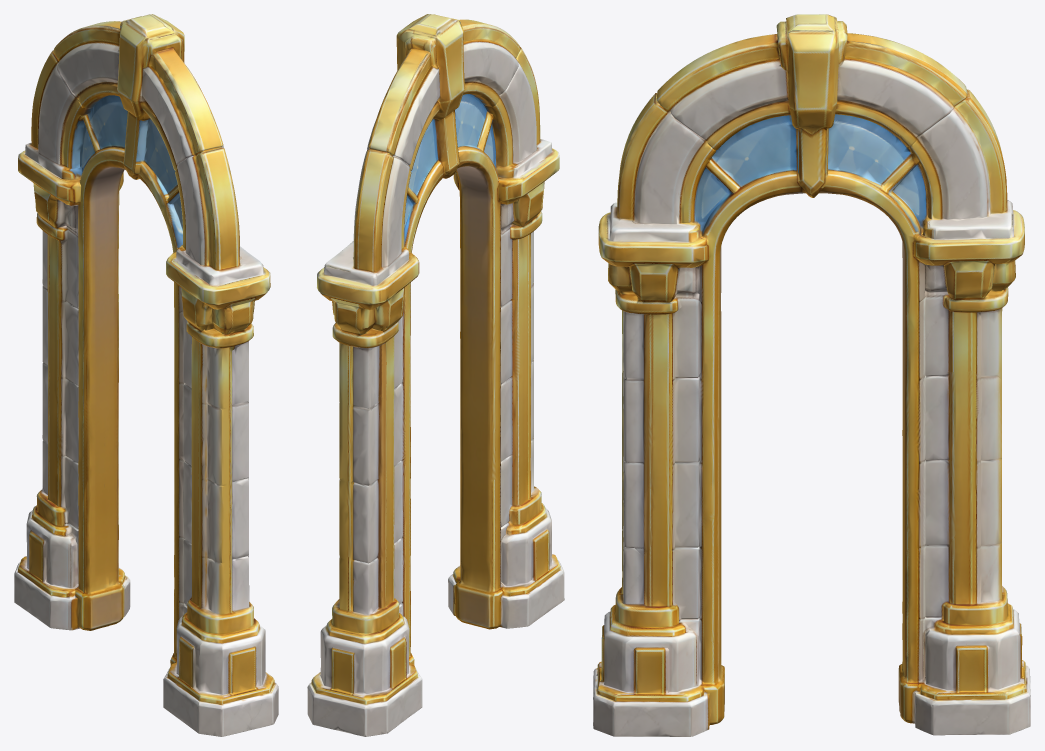
File: HaloPart_TowerDoorFrame_HD_src.glb
3 views of the same model, side by side, from view 1: azimuth 30°, elevation 25°; view 2: azimuth 150°, elevation 25°; view 3: azimuth 270°, elevation 25° (orthographic). The views are drawn at different scales.
Visible parts, largest first — view 1: tripo_node_8b2b0422-b008-4f8e-beba-523c5b8ad40c; view 2: tripo_node_8b2b0422-b008-4f8e-beba-523c5b8ad40c; view 3: tripo_node_8b2b0422-b008-4f8e-beba-523c5b8ad40c.
Part boxes in pixels (x1,y1,x2,y2): tripo_node_8b2b0422-b008-4f8e-beba-523c5b8ad40c: [14, 14, 278, 736]; tripo_node_8b2b0422-b008-4f8e-beba-523c5b8ad40c: [307, 14, 564, 736]; tripo_node_8b2b0422-b008-4f8e-beba-523c5b8ad40c: [593, 14, 1030, 736].
Size of the model in its own units: 0.1368 by 0.9783 by 0.5574.
1 material, 1 textured.
